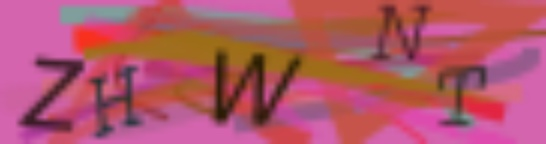H: (88, 63, 145, 140)
N: (372, 4, 437, 64)
T: (432, 61, 493, 130)
W: (209, 48, 306, 131)
Z: (16, 56, 87, 133)
